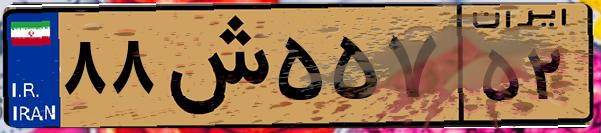2: (525, 38, 570, 115)
5: (270, 28, 330, 110), (330, 28, 385, 110), (475, 38, 525, 113)
7: (385, 28, 445, 110)
8: (57, 26, 110, 100), (110, 28, 158, 98)
ش: (158, 12, 270, 120)
